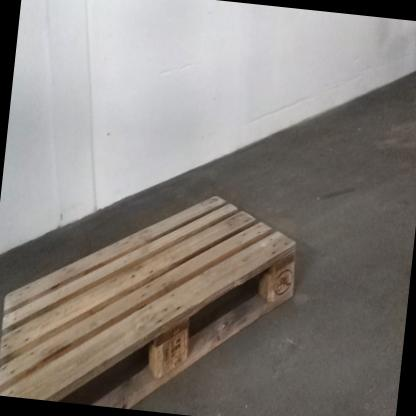BoxFace: (0, 192, 298, 410)
